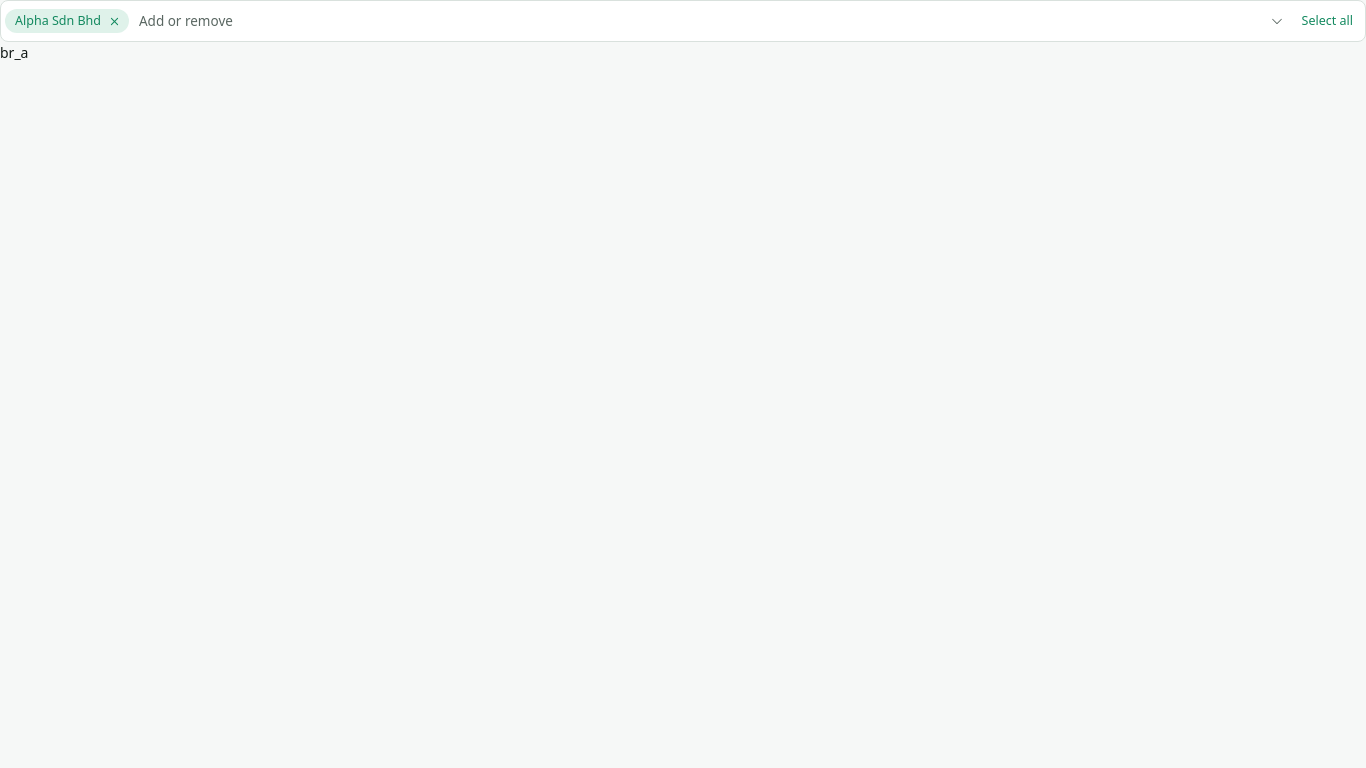
it: MultiSelect › picks all the shown ones after a search, and unpicks them again
This screenshot has width=1366, height=768.
Later steps or results of the test are not shown.
Click the button with aria-label "Branches: 1 picked. Change" at (186,21), box [133,5,1290,37]
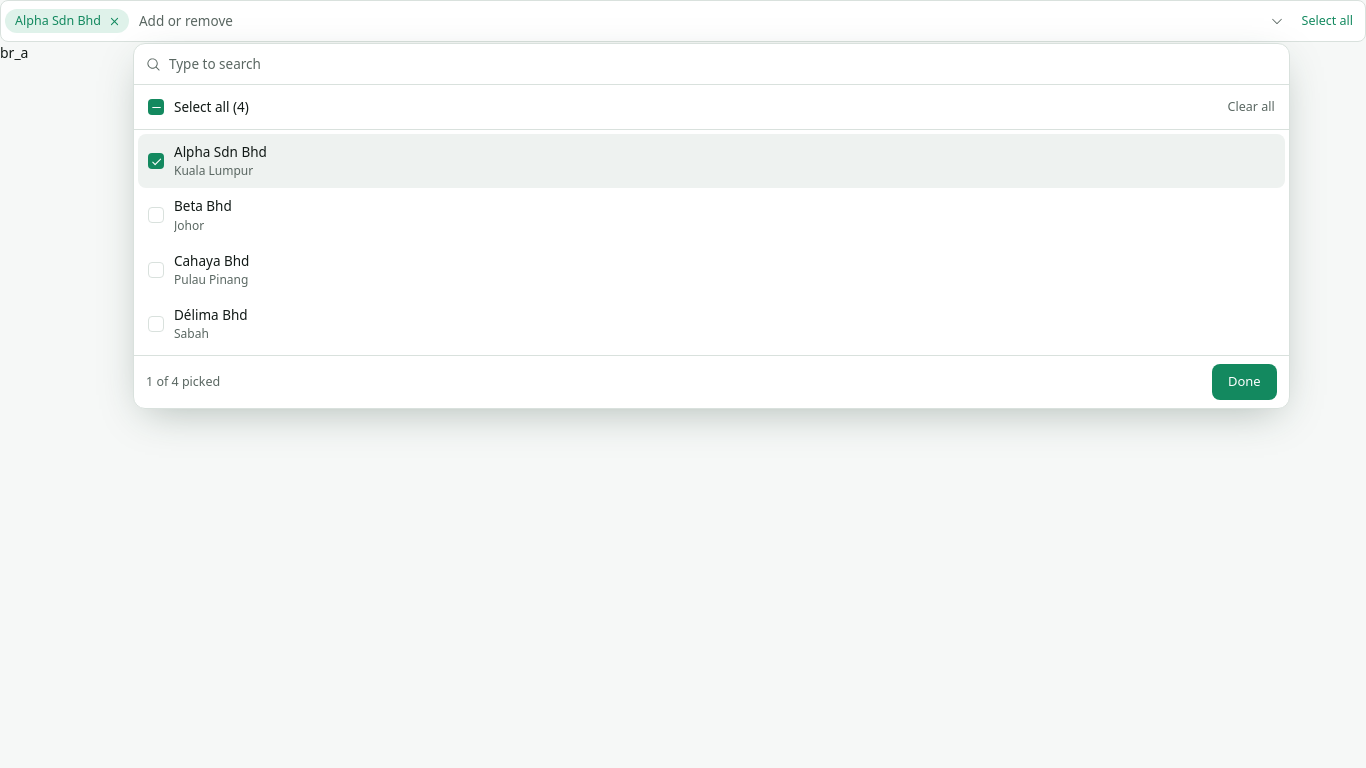
Type "bhd" into the dropdown at (723,64), box [169,44,1277,84]
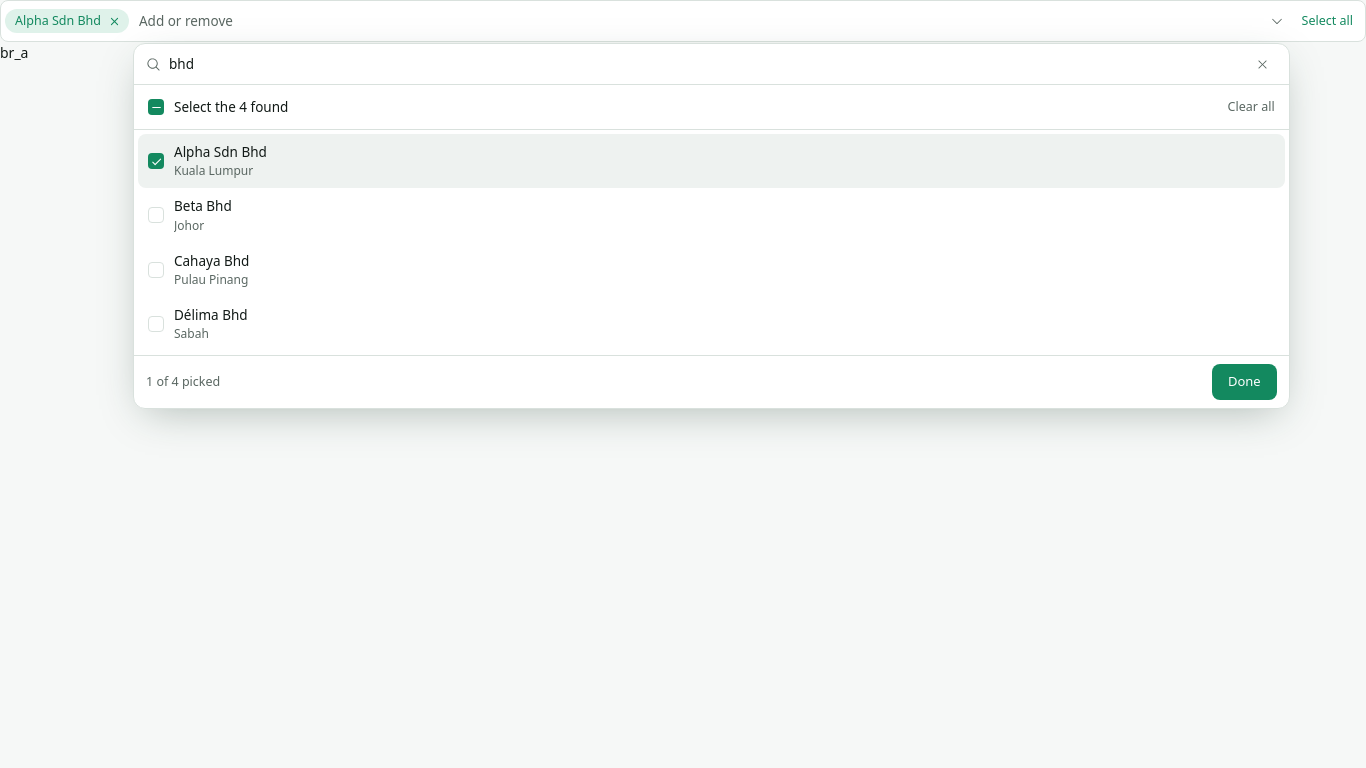
Click the checkbox labelled "Select the 4 found" at (231,107), box [138,89,1210,125]
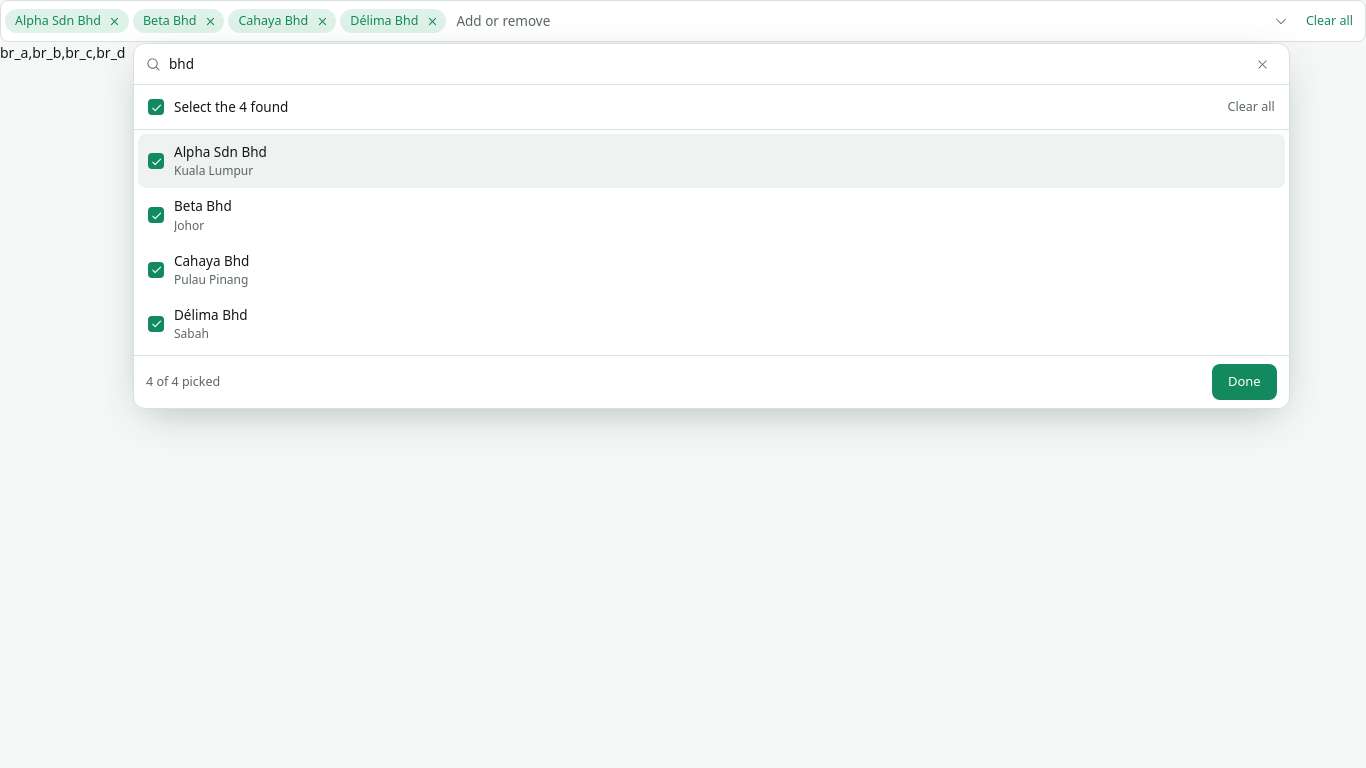
Expected: the text with test id "many" reads "br_a,br_b,br_c,br_d", [0,43,126,62]
Replace the text in the dropdown with "johor" at (705,64), box [169,44,1241,84]
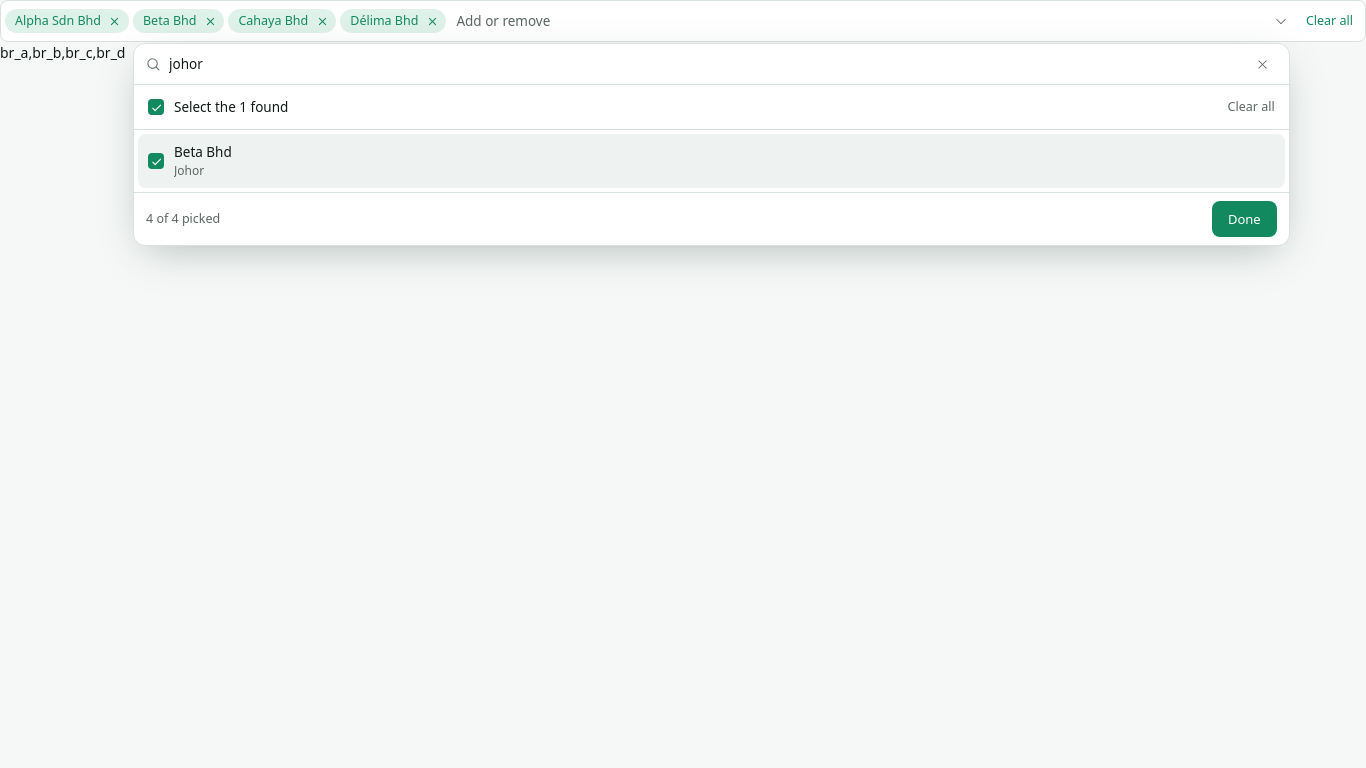
Expected: the checkbox labelled "Select the 1 found" is checked
Click the checkbox labelled "Select the 1 found" at (231,107), box [138,89,1210,125]
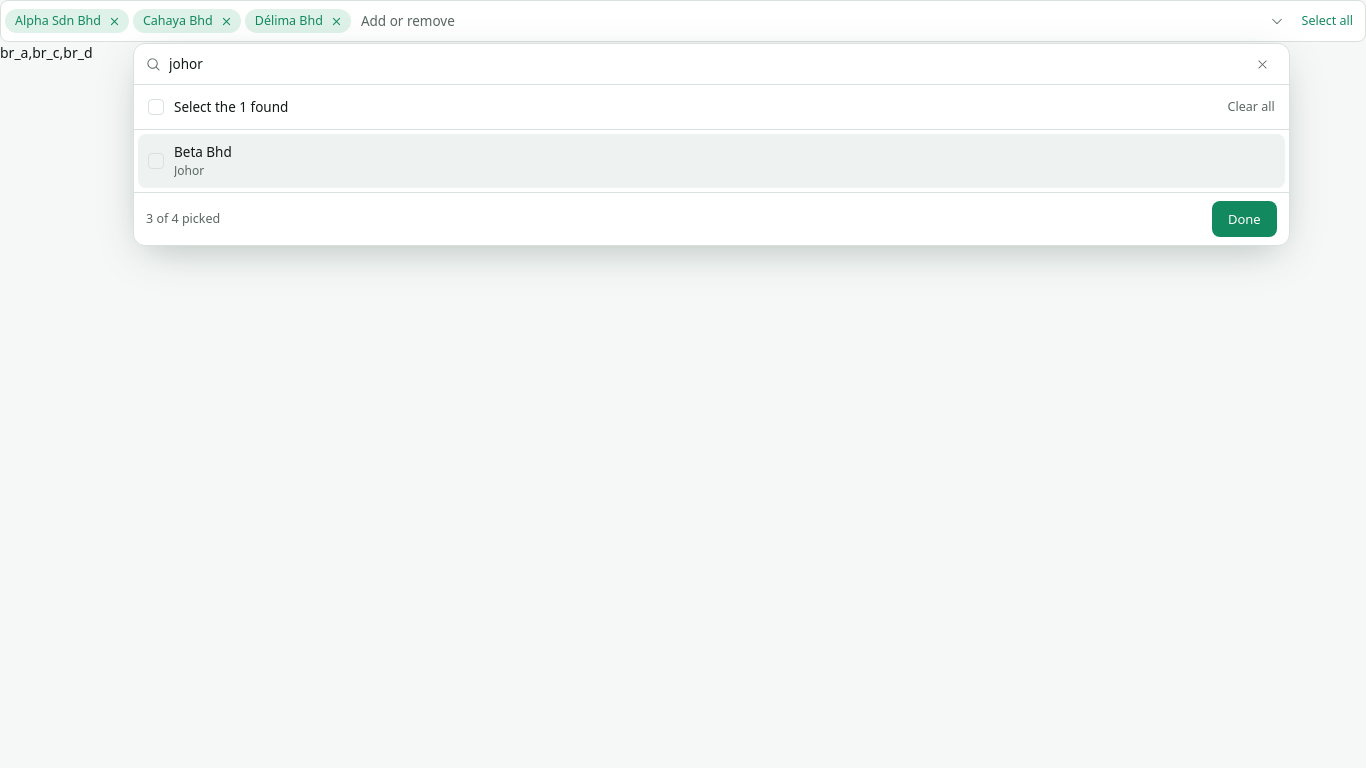
Expected: the text with test id "many" reads "br_a,br_c,br_d", [0,43,92,62]
